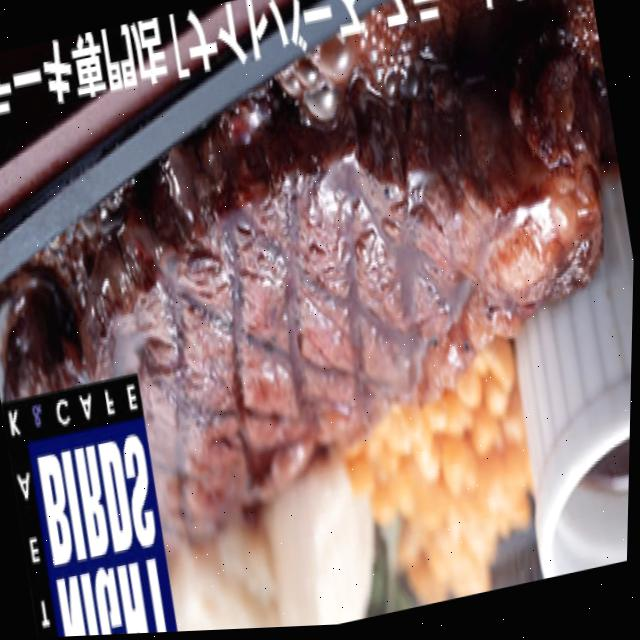牛肉菜式: (99, 47, 639, 524)
